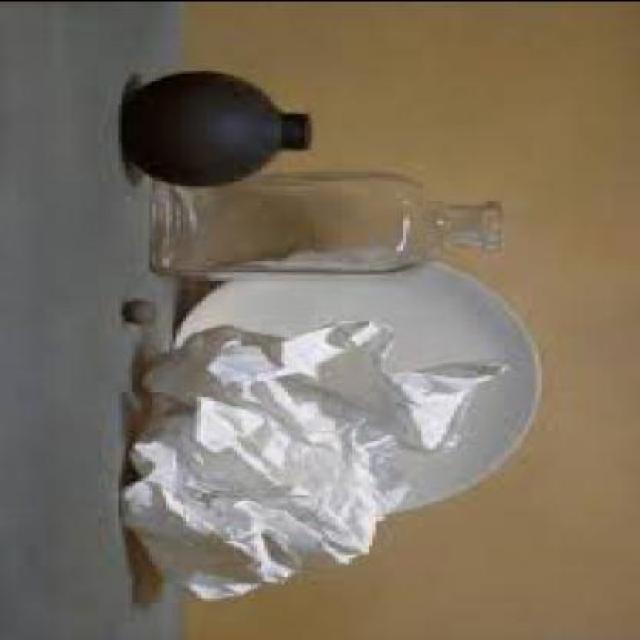GLASS: (152, 172, 508, 283)
PAPER: (121, 324, 522, 601)
